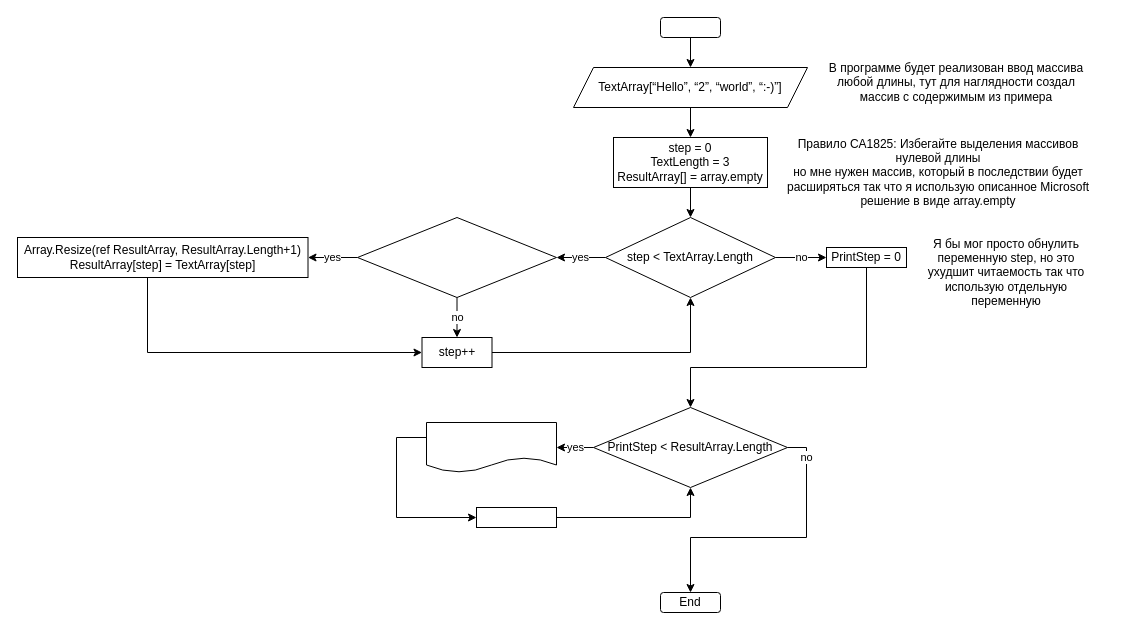
Image size: 1121x630. Some labels were removed from this diagram. The centre of each missing label's shape, as x and y in pixels:
PrintStep++: point 516,517
ResultArray[PrintStep]: point 491,447
Start: point 690,27
TextArray[step] <= TextLength: point 456,257
